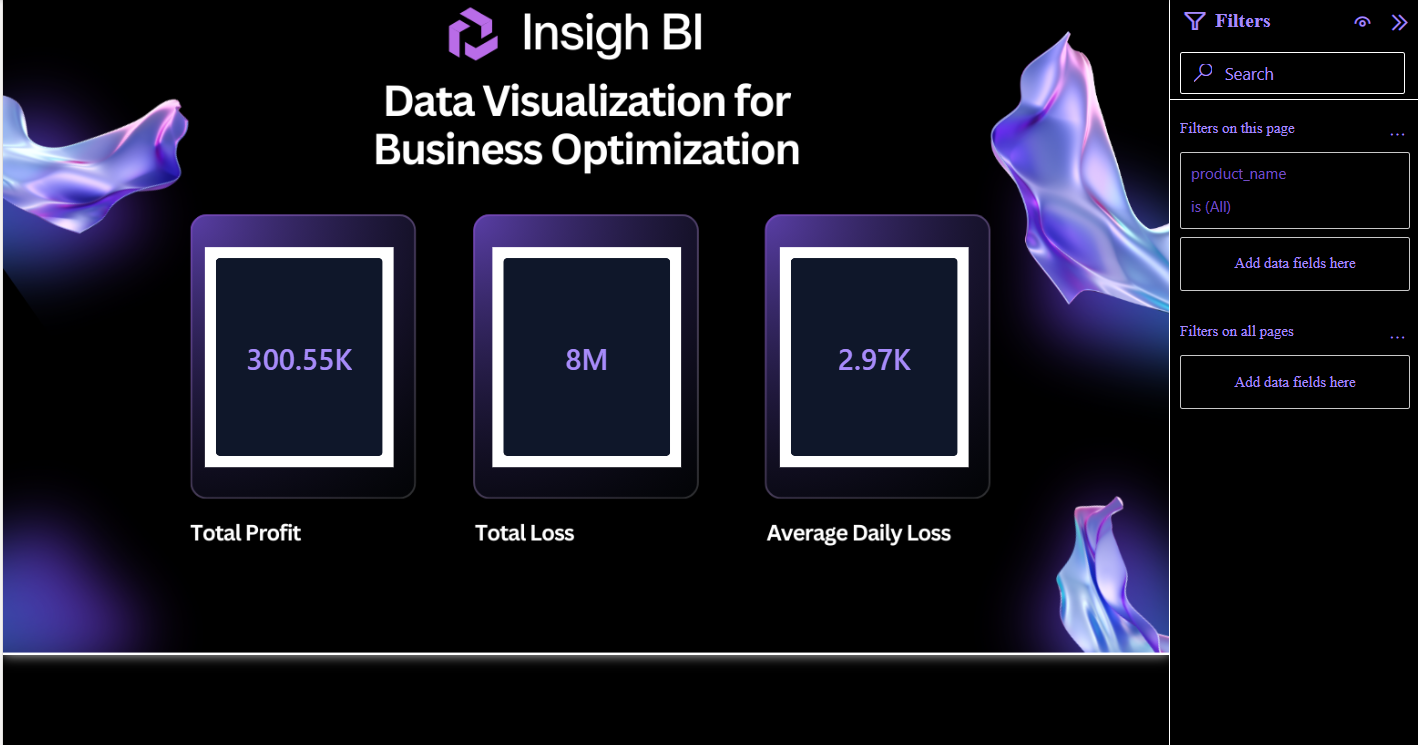

What the dashboard file says about the page in this screenshot:
{"tool":"powerbi","page":{"name":"Page 2","canvas":[1280,720],"ordinal":1},"visuals":[{"type":"cardVisual","fields":{"Data":["Measures Table.Total Profit"]},"box":[216.6,267.8,217.8,251.1],"z":0},{"type":"cardVisual","fields":{"Data":["Measures Table.Total Loss"]},"box":[531.9,267.8,217.8,251.1],"z":1000},{"type":"cardVisual","fields":{"Data":["Measures Table.Average Loss Per Day"]},"box":[848.5,267.8,217.8,251.1],"z":2000}]}

Visuals, with their boxes on the page's 1280x720 design canvas (x1, y1, x2, y2). These are canvas units, not pixel positions in the 1418x745 screenshot, which may show the page scaled, cropped or inside an application window:
cardVisual - Measures Table.Total Profit: Rect(217, 268, 434, 519)
cardVisual - Measures Table.Total Loss: Rect(532, 268, 750, 519)
cardVisual - Measures Table.Average Loss Per Day: Rect(848, 268, 1066, 519)
